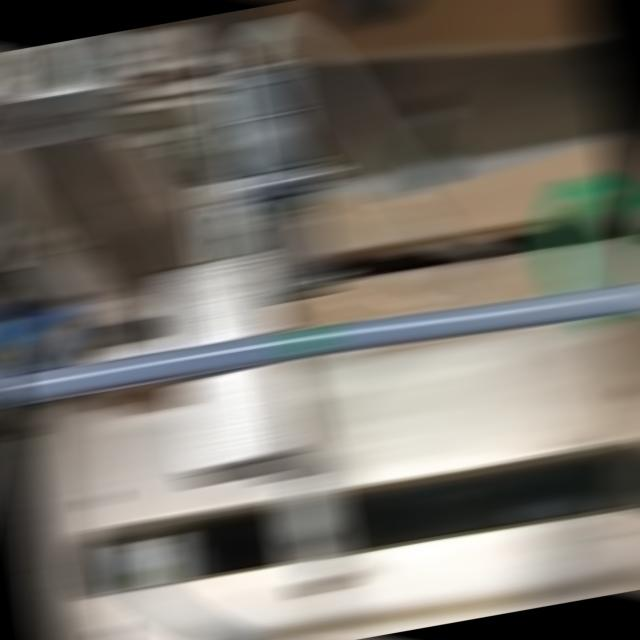green: (278, 326, 335, 357)
